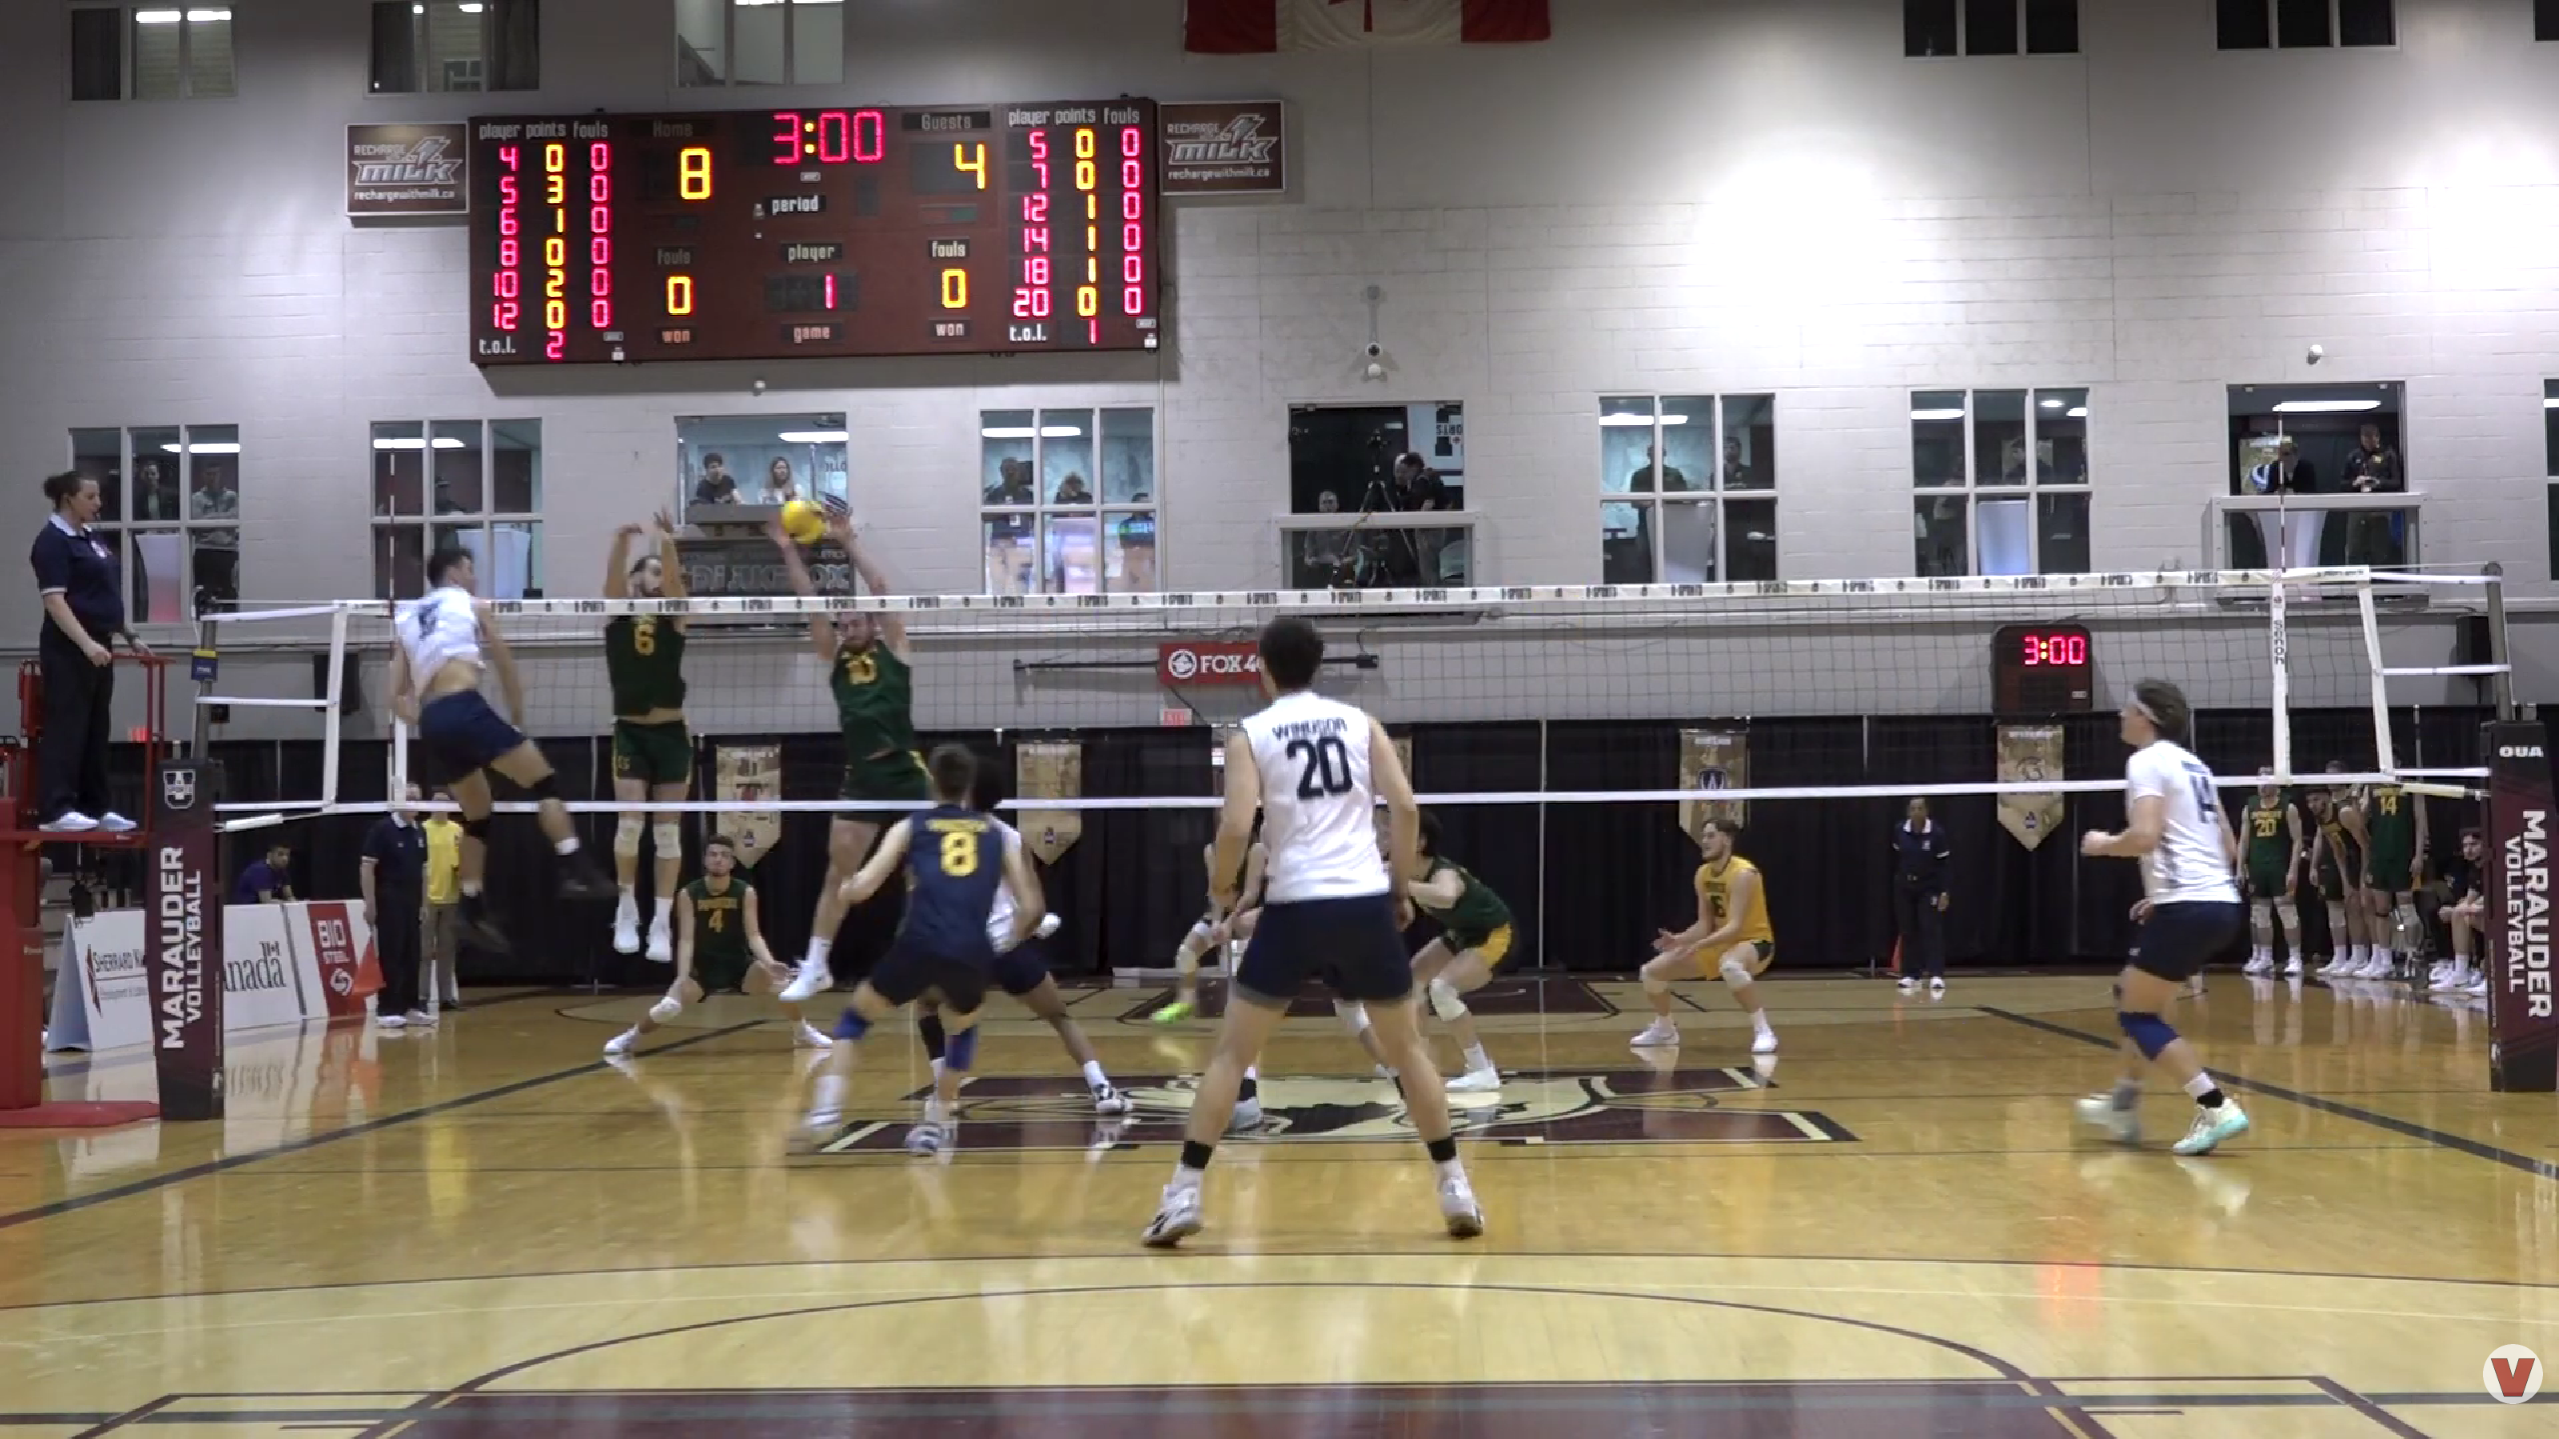Ball: (780, 497, 828, 545)
